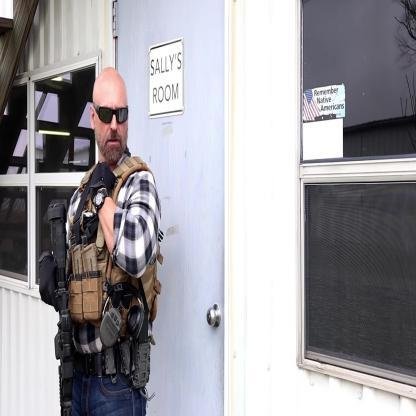Gun: (44, 190, 78, 416)
